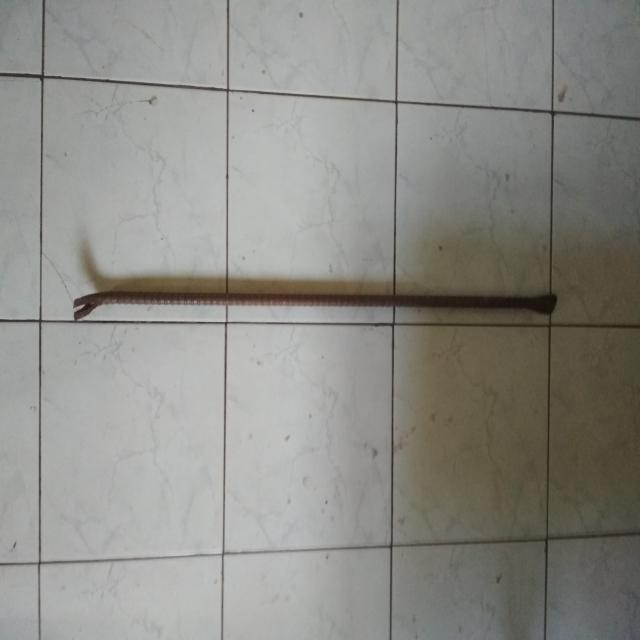Linggis: (74, 280, 560, 337)
